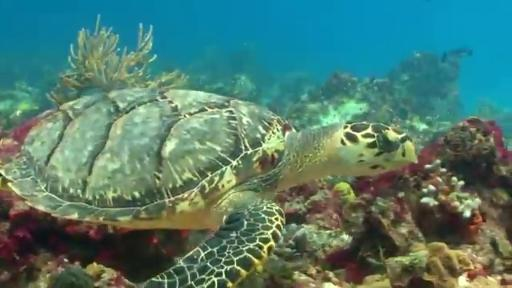Fish: (0, 89, 416, 287)
